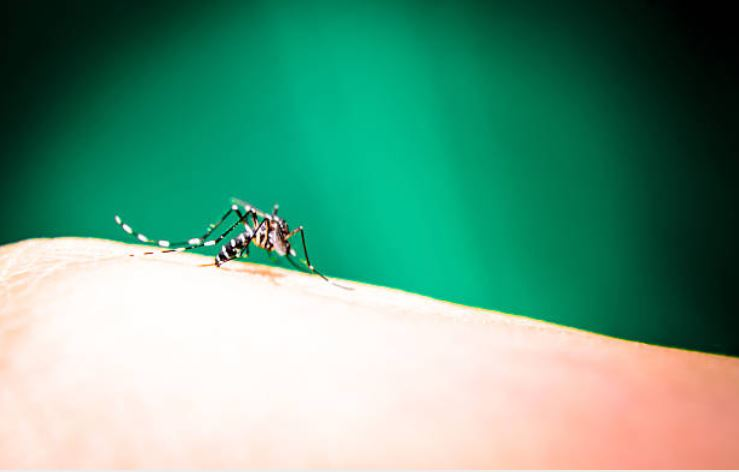dengue_mosquito: (114, 196, 329, 278)
